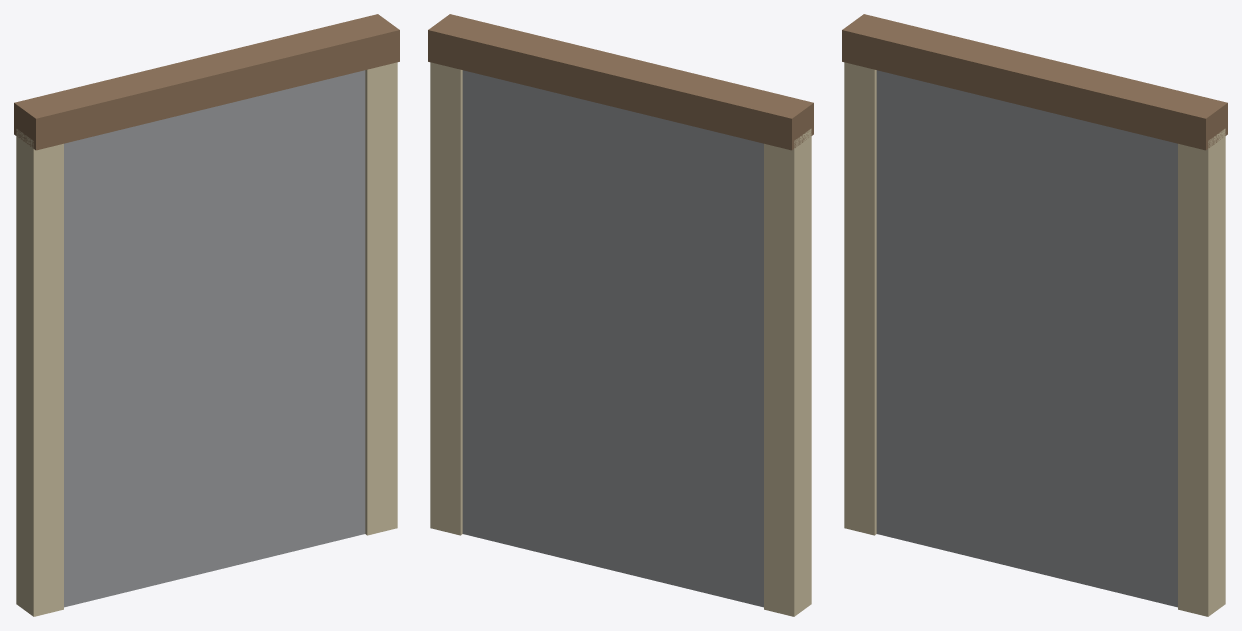
The model's file is ilu_espelho_luz.glb.
3 renders of one model, left to right at view 1: azimuth 30°, elevation 25°; view 2: azimuth 150°, elevation 25°; view 3: azimuth 330°, elevation 25°, orthographic.
Visible parts, largest first — view 1: ILU_Espelho_Luz_v01; view 2: ILU_Espelho_Luz_v01; view 3: ILU_Espelho_Luz_v01.
Part boxes in pixels (bbox=[...]): ILU_Espelho_Luz_v01: bbox=[14, 14, 399, 616]; ILU_Espelho_Luz_v01: bbox=[428, 14, 813, 616]; ILU_Espelho_Luz_v01: bbox=[842, 14, 1227, 616].
Bounding box in the file's own units: 0.48 × 0.63 × 0.05.
